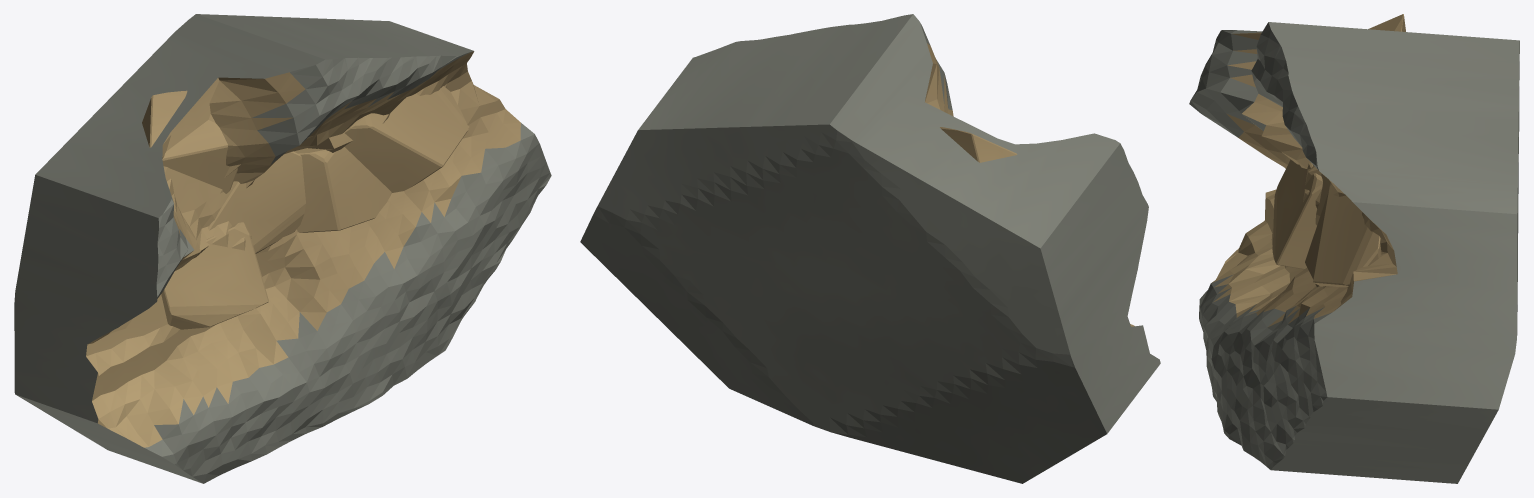
File: corealm_item_grithe_ore.glb
The picture shows the model from 3 angles, left to right: view 1: azimuth 30°, elevation 25°; view 2: azimuth 150°, elevation 25°; view 3: azimuth 270°, elevation 25°; orthographic projection. The views are drawn at different scales.
Visible parts, largest first — view 1: corealm_item_grithe_ore; view 2: corealm_item_grithe_ore; view 3: corealm_item_grithe_ore.
Part boxes in pixels (x1,y1,x2,y2): corealm_item_grithe_ore: (14, 14, 551, 483); corealm_item_grithe_ore: (580, 14, 1160, 483); corealm_item_grithe_ore: (1189, 14, 1519, 483).
Bounding box in the file's own units: 0.337 × 0.2498 × 0.1627.
